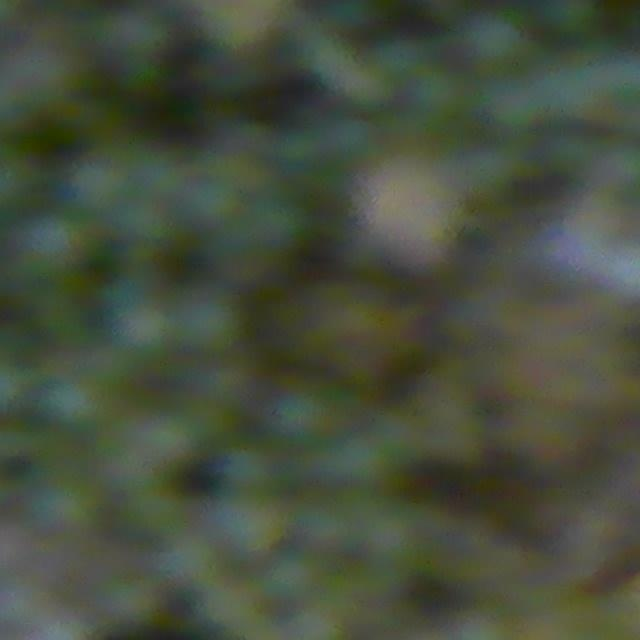SeaGrape: (13, 210, 89, 282), (171, 288, 244, 357), (461, 8, 527, 71)
